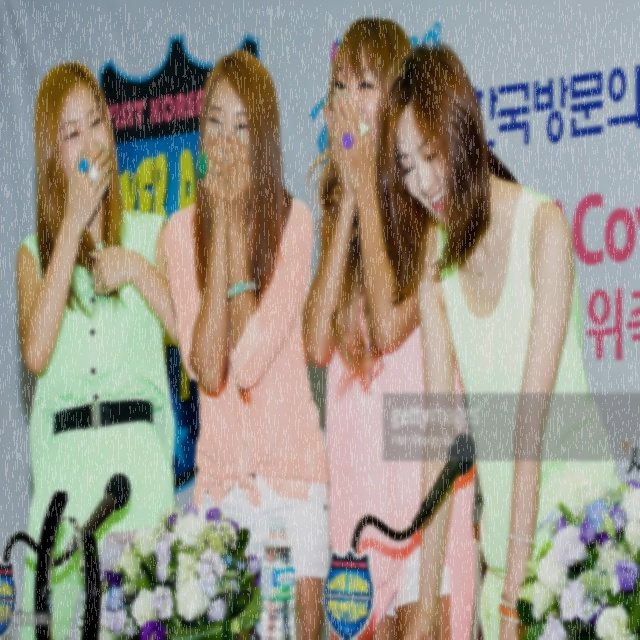pessoa: (373, 38, 624, 640), (296, 13, 479, 639), (160, 47, 332, 639), (15, 58, 184, 639)
